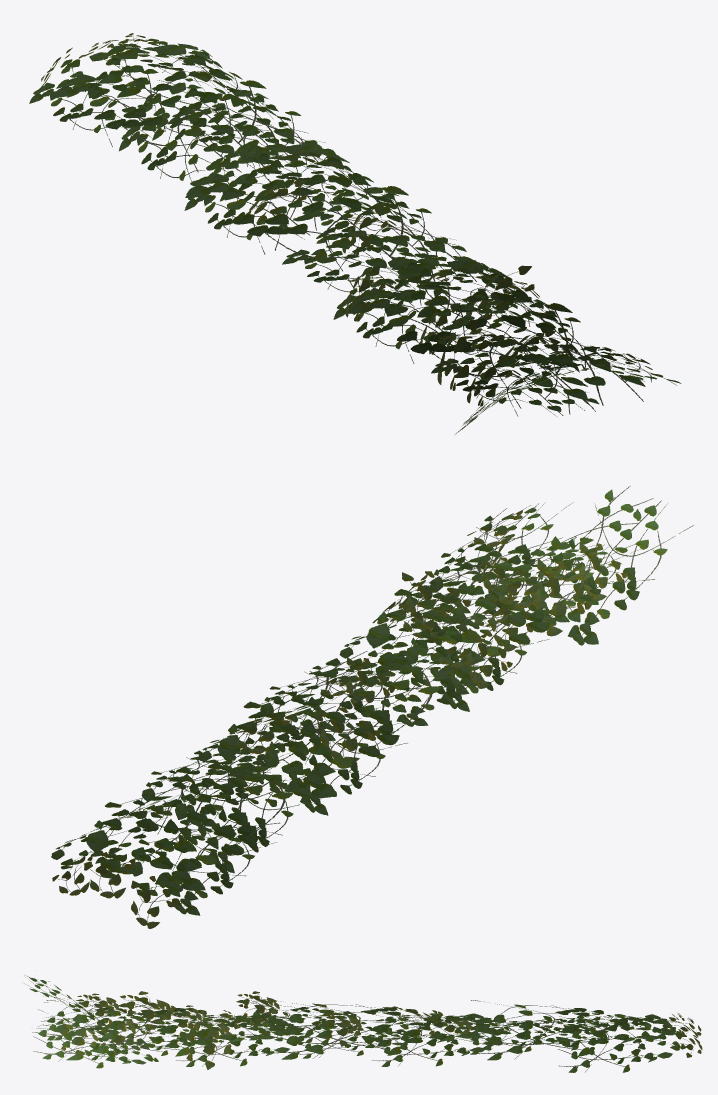
File: vine05_wall_painting.dae
The picture shows the model from 3 angles, top to bottom: view 1: azimuth 30°, elevation 25°; view 2: azimuth 150°, elevation 25°; view 3: azimuth 270°, elevation 25°; orthographic projection. The views are drawn at different scales.
Visible parts, largest first — view 1: vine05_wall_paint_a100, vine05_wall_paint_a60, vine05_wall_paint_a200; view 2: vine05_wall_paint_a100, vine05_wall_paint_a60, vine05_wall_paint_a200; view 3: vine05_wall_paint_a100, vine05_wall_paint_a60, vine05_wall_paint_a200.
Boxes of the visible parts, left/top/right/bottom form: vine05_wall_paint_a100: left=29, top=38, right=681, bottom=434; vine05_wall_paint_a60: left=52, top=44, right=645, bottom=410; vine05_wall_paint_a200: left=40, top=33, right=652, bottom=406; vine05_wall_paint_a100: left=51, top=486, right=693, bottom=915; vine05_wall_paint_a60: left=86, top=536, right=634, bottom=892; vine05_wall_paint_a200: left=52, top=510, right=627, bottom=928; vine05_wall_paint_a100: left=24, top=975, right=689, bottom=1072; vine05_wall_paint_a60: left=38, top=999, right=681, bottom=1060; vine05_wall_paint_a200: left=58, top=991, right=702, bottom=1069.
Size of the model in its own units: 1.7 by 6.76 by 0.8994.
